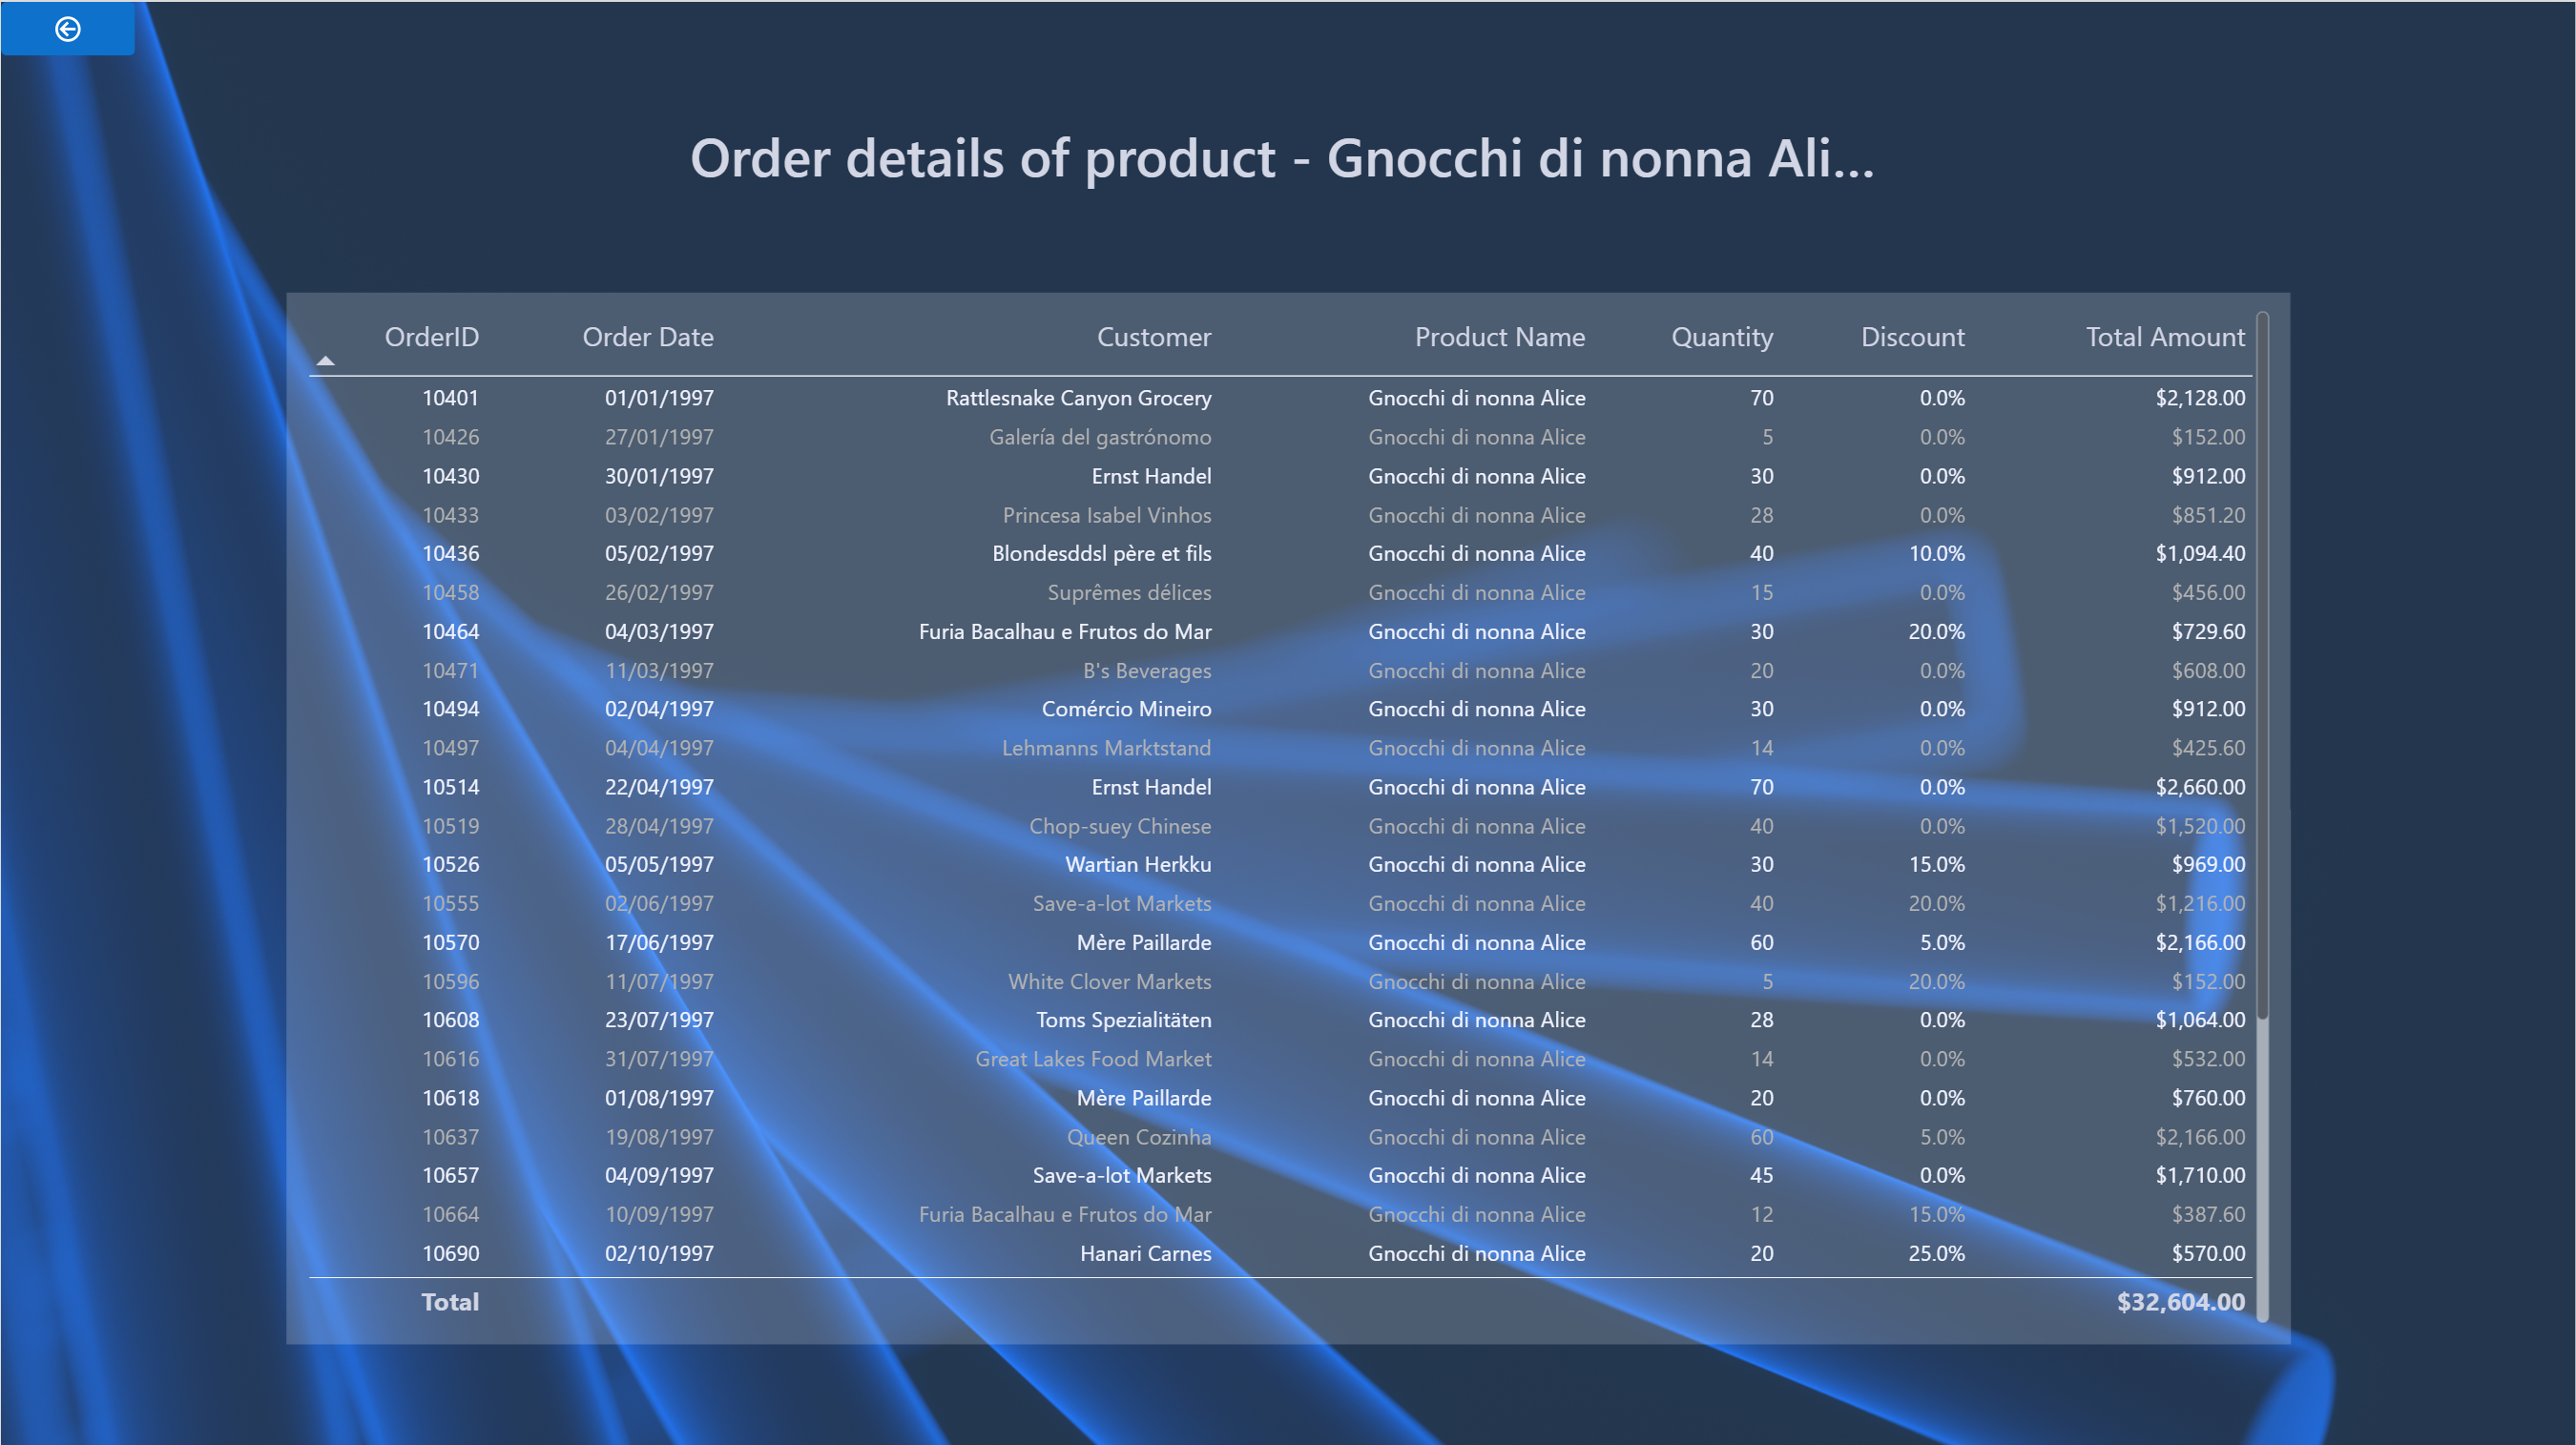

The dashboard page shown, as its layout file describes it:
{"tool":"powerbi","page":{"name":"Order Details","canvas":[1920,1080],"ordinal":2},"visuals":[{"type":"actionButton","box":[0,0,100,40],"z":0},{"type":"tableEx","fields":{"Values":["public vw_fct_order_sales.OrderID","public vw_fct_order_sales.Order Date","public vw_dim_customer_geo.Customer","public vw_dim_product_enriched.Product Name","public vw_fct_order_sales.Quantity","public vw_fct_order_sales.Discount","Sum(public vw_fct_order_sales.Total Line Amount)"]},"box":[212.9,216.6,1494,784.4],"z":1},{"type":"cardVisual","fields":{"Data":["_Measures.Drillthrough Title"]},"box":[498,19.9,922.6,188],"z":2}]}

Visuals, with their boxes in screenshot pixels (x1, y1, x2, y2), scaled from the page's 1920x1080 canvas onto the 2576x1445 screenshot:
actionButton: (0,0,135,53)
tableEx - public vw_fct_order_sales.OrderID x public vw_fct_order_sales.Order Date: (285,290,2290,1339)
cardVisual - _Measures.Drillthrough Title: (668,27,1906,279)
